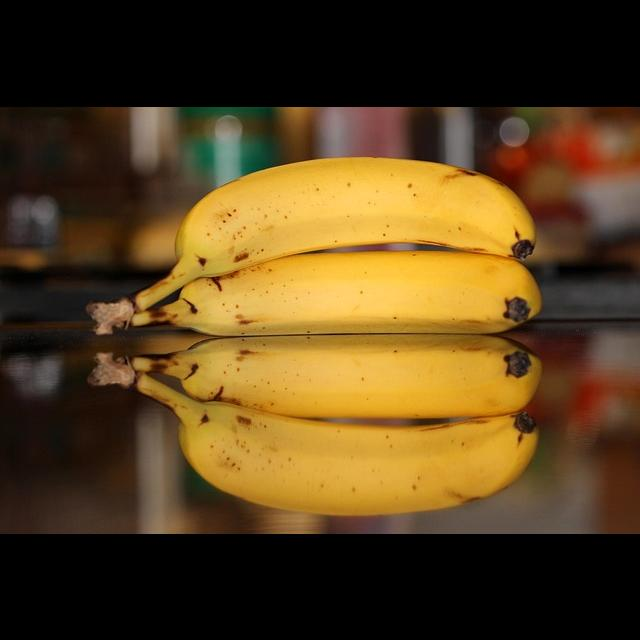banana: (165, 389, 577, 521), (138, 155, 581, 264), (161, 242, 568, 339), (157, 327, 583, 418)
